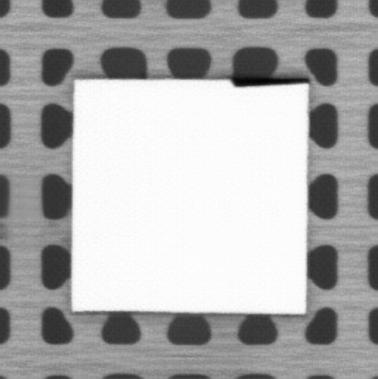DIE_BROKEN: (227, 75, 312, 89)
